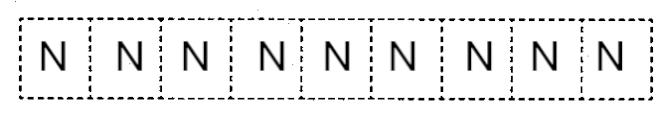N: (254, 32, 290, 80), (34, 36, 75, 77), (177, 32, 215, 76), (318, 34, 356, 76), (110, 36, 148, 76)
